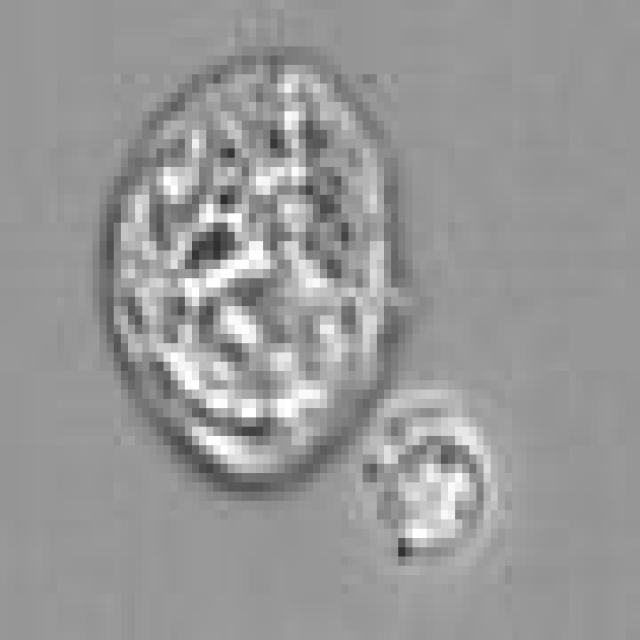Cancer Cell: (100, 46, 406, 482)
WBC: (362, 399, 498, 566)
